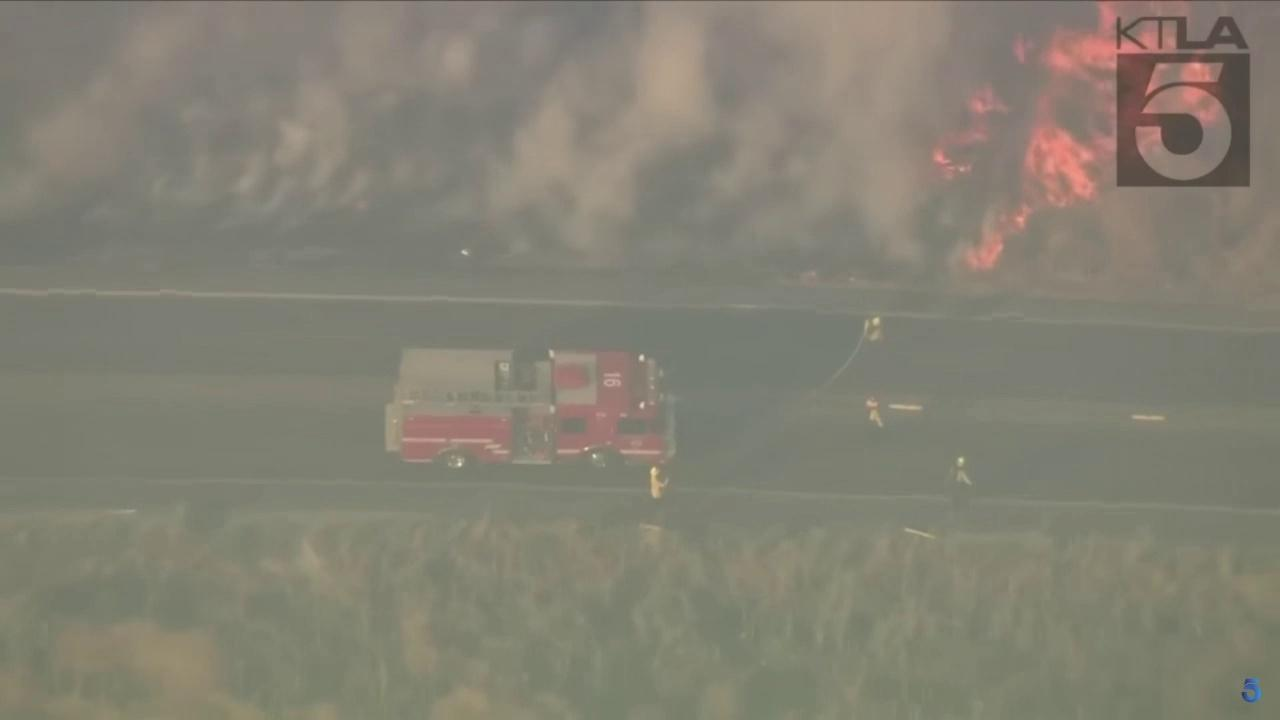fire: (964, 0, 1220, 274), (929, 85, 1015, 189)
smoke: (0, 0, 1030, 284)
